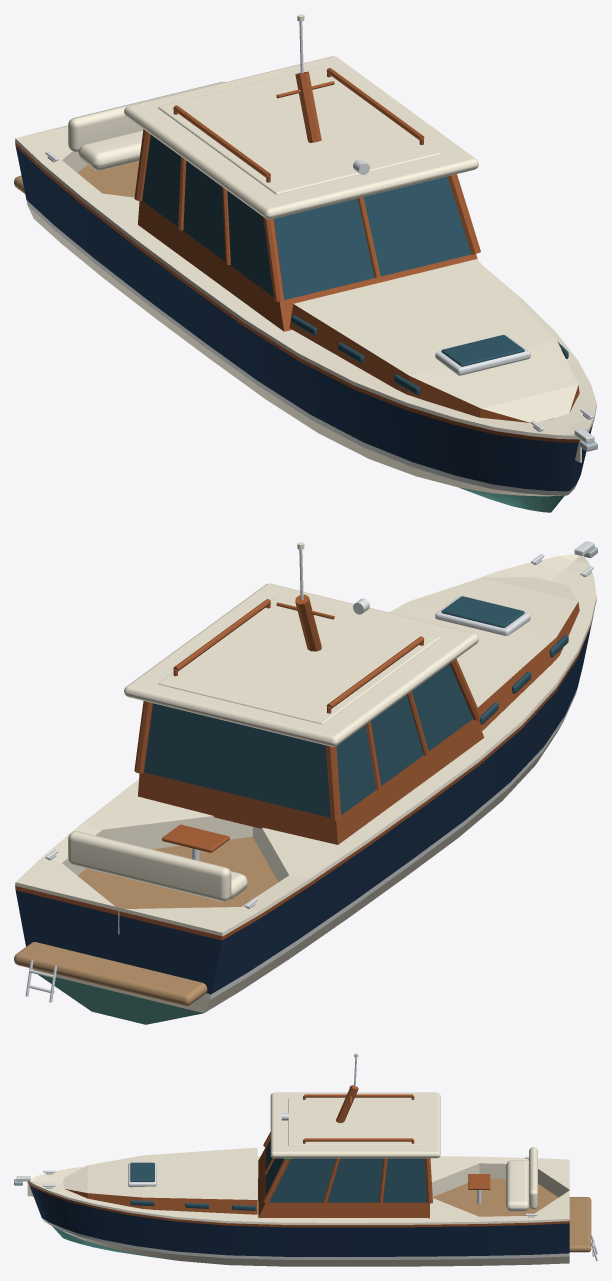
The model's file is picnic_launch.glb.
3 renders of one model, top to bottom at view 1: azimuth 30°, elevation 25°; view 2: azimuth 150°, elevation 25°; view 3: azimuth 270°, elevation 25°, orthographic. The views are drawn at different scales.
Parts seen in each view (by area): view 1: picnic_launch; view 2: picnic_launch; view 3: picnic_launch.
Part boxes in pixels (box(x1,y1,x2,y2)): picnic_launch: box(14, 14, 597, 512); picnic_launch: box(14, 541, 597, 1024); picnic_launch: box(14, 1053, 597, 1266).
Bounding box in the file's own units: 3.18 × 4.4 × 11.62.
